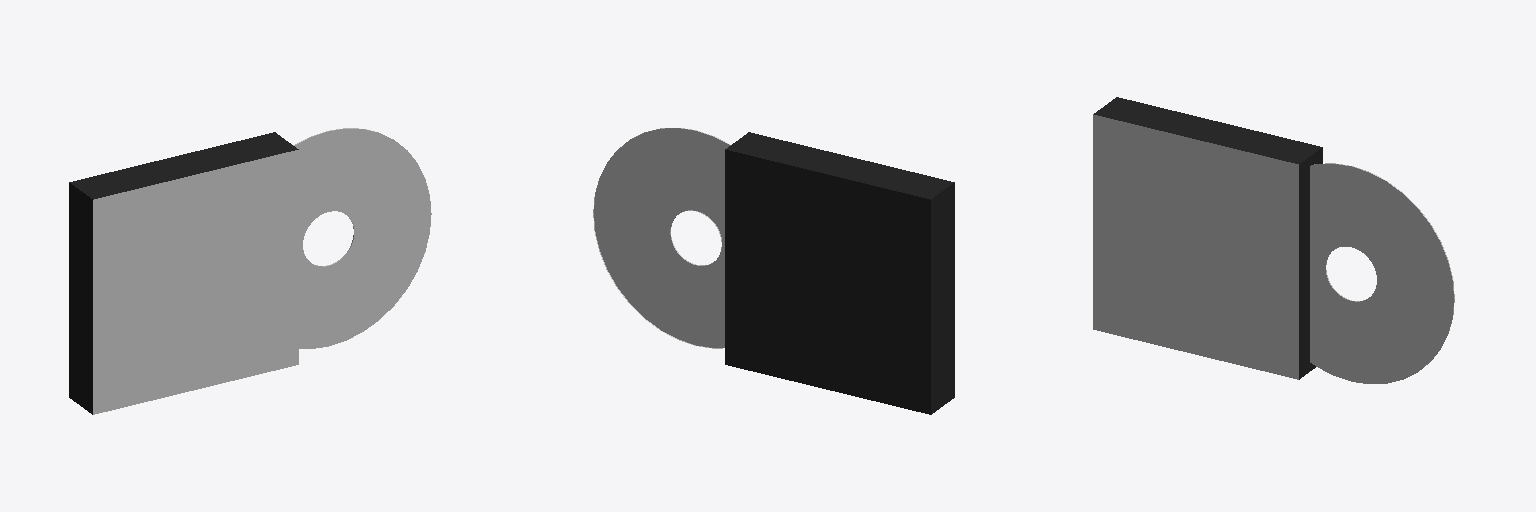
The model's file is engcdmodel.obj.
3 views of the same model, side by side, from view 1: azimuth 30°, elevation 25°; view 2: azimuth 150°, elevation 25°; view 3: azimuth 330°, elevation 25° (orthographic).
Parts seen in each view (by area): view 1: Cube, Disc; view 2: Cube, Disc; view 3: Cube, Disc.
Part boxes in pixels (x1,y1,x2,y2): Cube: (69,132,298,414); Disc: (293,128,431,348); Cube: (725,132,954,414); Disc: (593,128,730,348); Cube: (1093,97,1322,379); Disc: (1310,163,1454,383).
Bounding box in the file's own units: 340 × 200 × 40.